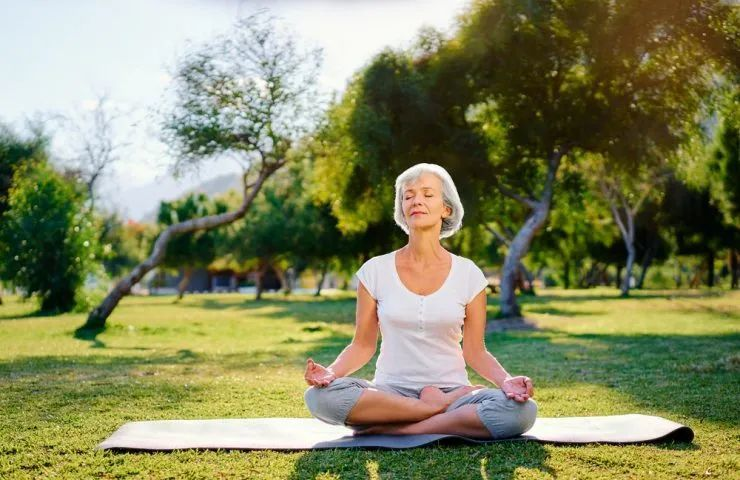sitting: (292, 149, 549, 447)
